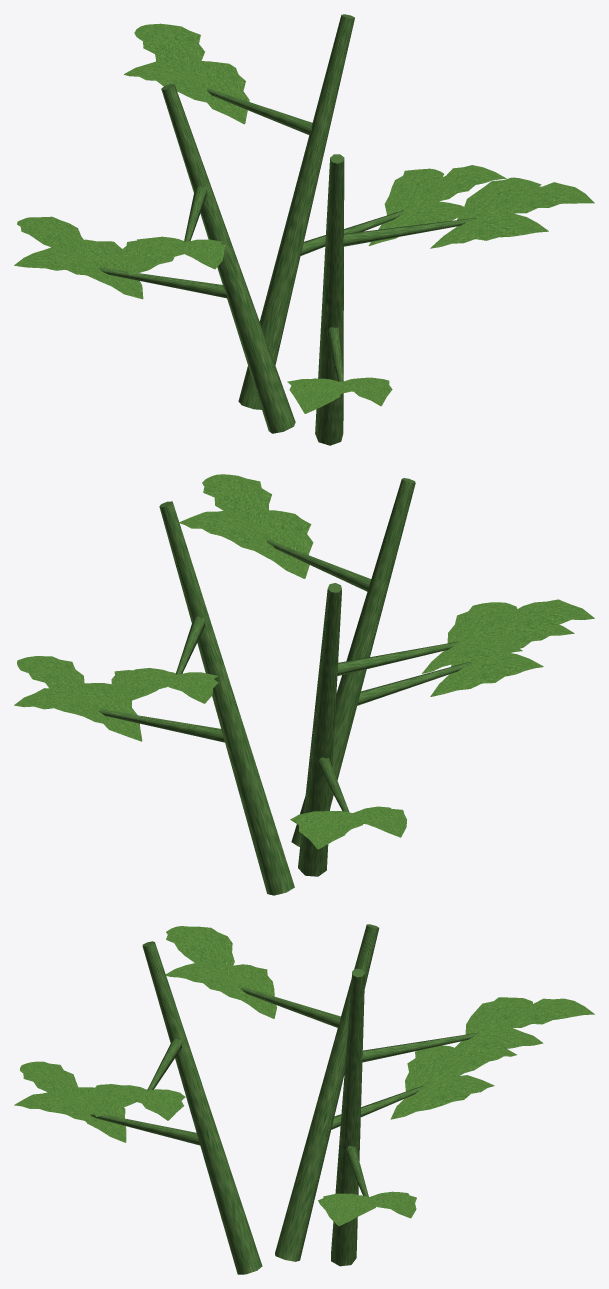
Rendered from PZ_Crop_Potato_Sprout.glb.
The picture shows the model from 3 angles, top to bottom: view 1: azimuth 30°, elevation 25°; view 2: azimuth 150°, elevation 25°; view 3: azimuth 270°, elevation 25°; orthographic projection. The views are drawn at different scales.
Parts seen in each view (by area): view 1: PZ_Crop_Potato_Sprout_03_Broad_Leaflets, PZ_Crop_Potato_Sprout_01_Stem_Shoots, PZ_Crop_Potato_Sprout_02_Compound_Petioles; view 2: PZ_Crop_Potato_Sprout_03_Broad_Leaflets, PZ_Crop_Potato_Sprout_01_Stem_Shoots, PZ_Crop_Potato_Sprout_02_Compound_Petioles; view 3: PZ_Crop_Potato_Sprout_03_Broad_Leaflets, PZ_Crop_Potato_Sprout_01_Stem_Shoots, PZ_Crop_Potato_Sprout_02_Compound_Petioles.
Boxes of the visible parts, x1,y1,x2,y2 form: PZ_Crop_Potato_Sprout_03_Broad_Leaflets: (14, 23, 594, 413); PZ_Crop_Potato_Sprout_01_Stem_Shoots: (161, 14, 354, 445); PZ_Crop_Potato_Sprout_02_Compound_Petioles: (98, 89, 477, 381); PZ_Crop_Potato_Sprout_03_Broad_Leaflets: (14, 474, 594, 849); PZ_Crop_Potato_Sprout_01_Stem_Shoots: (159, 478, 415, 895); PZ_Crop_Potato_Sprout_02_Compound_Petioles: (98, 539, 472, 812); PZ_Crop_Potato_Sprout_03_Broad_Leaflets: (14, 926, 594, 1226); PZ_Crop_Potato_Sprout_01_Stem_Shoots: (142, 924, 379, 1274); PZ_Crop_Potato_Sprout_02_Compound_Petioles: (90, 987, 477, 1196).
Bounding box in the file's own units: 0.2239 × 0.1652 × 0.2576.
Materials: 2 (2 with a texture image).
